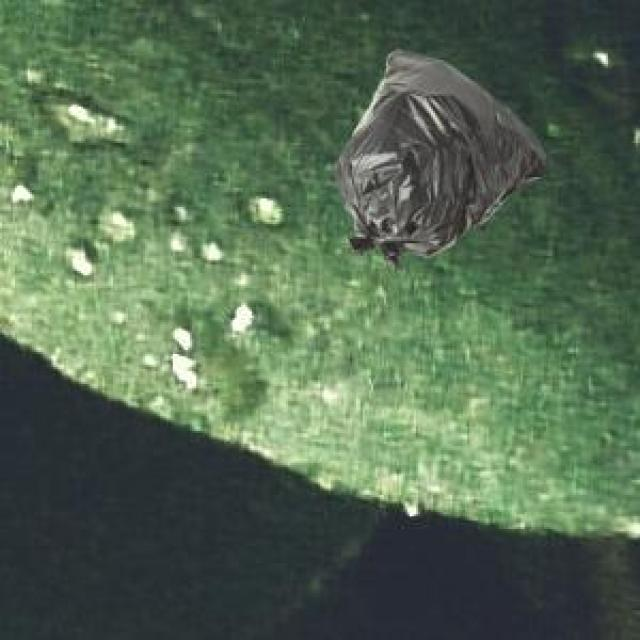Trashbag: (328, 43, 560, 257)
